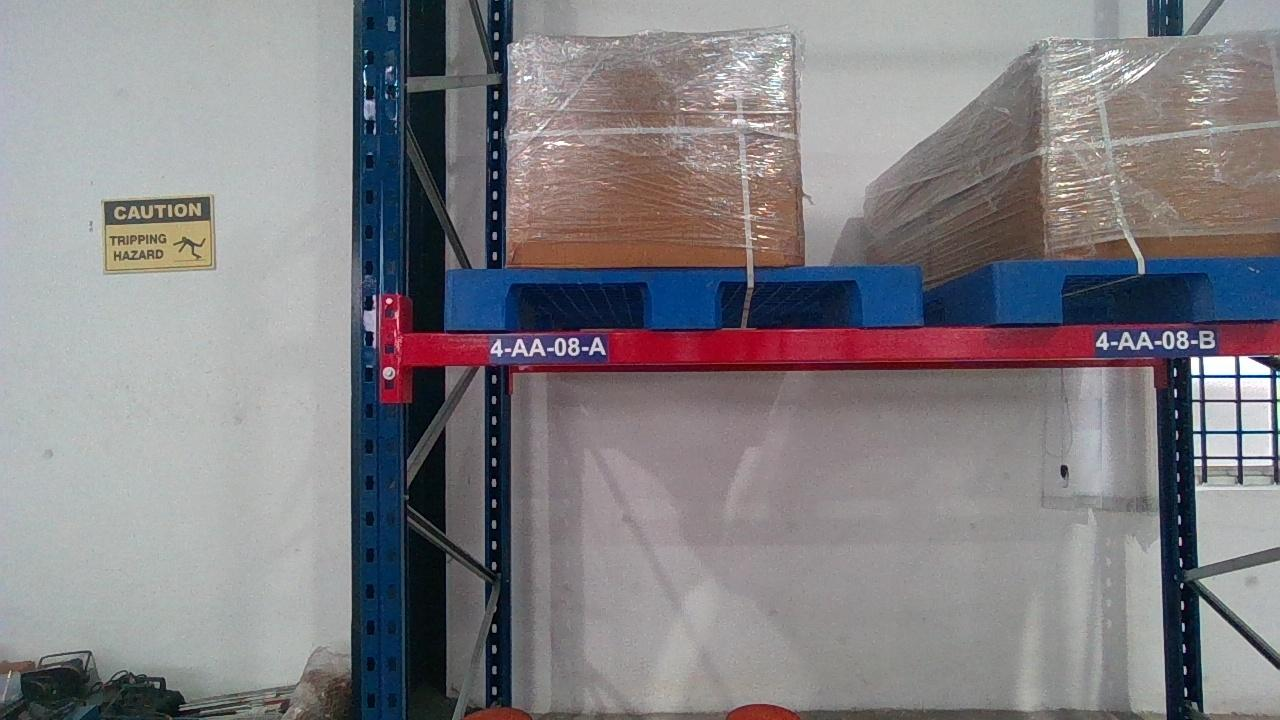h_rack: (407, 322, 1278, 363)
small_pallet: (443, 263, 921, 327), (996, 255, 1278, 320)
